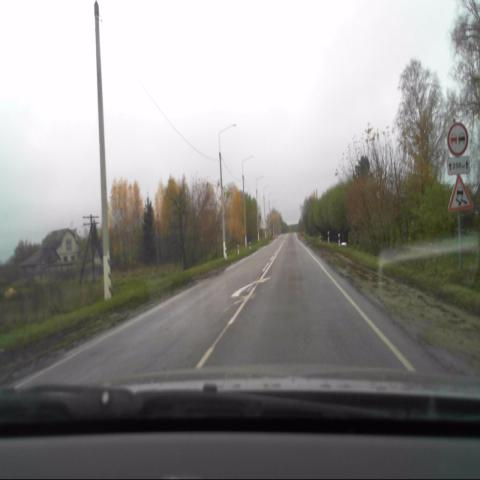1_15: (447, 176, 473, 210)
3_20: (447, 121, 468, 155)
8_2_1: (446, 156, 470, 174)
